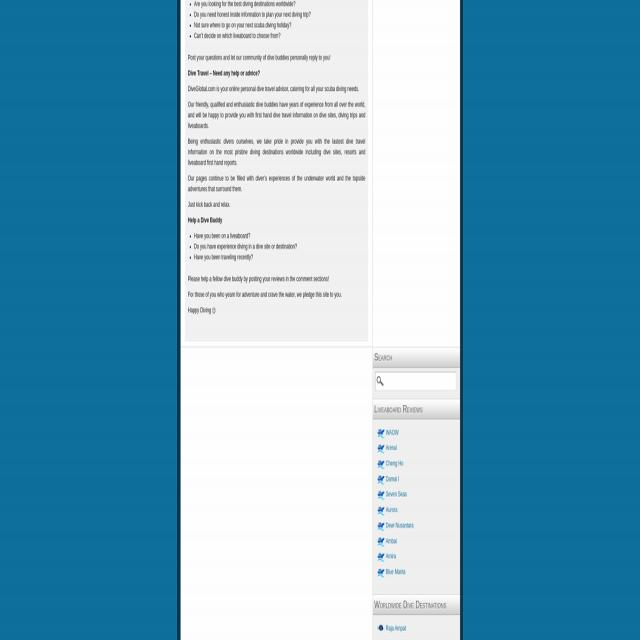field: (376, 372, 456, 391)
